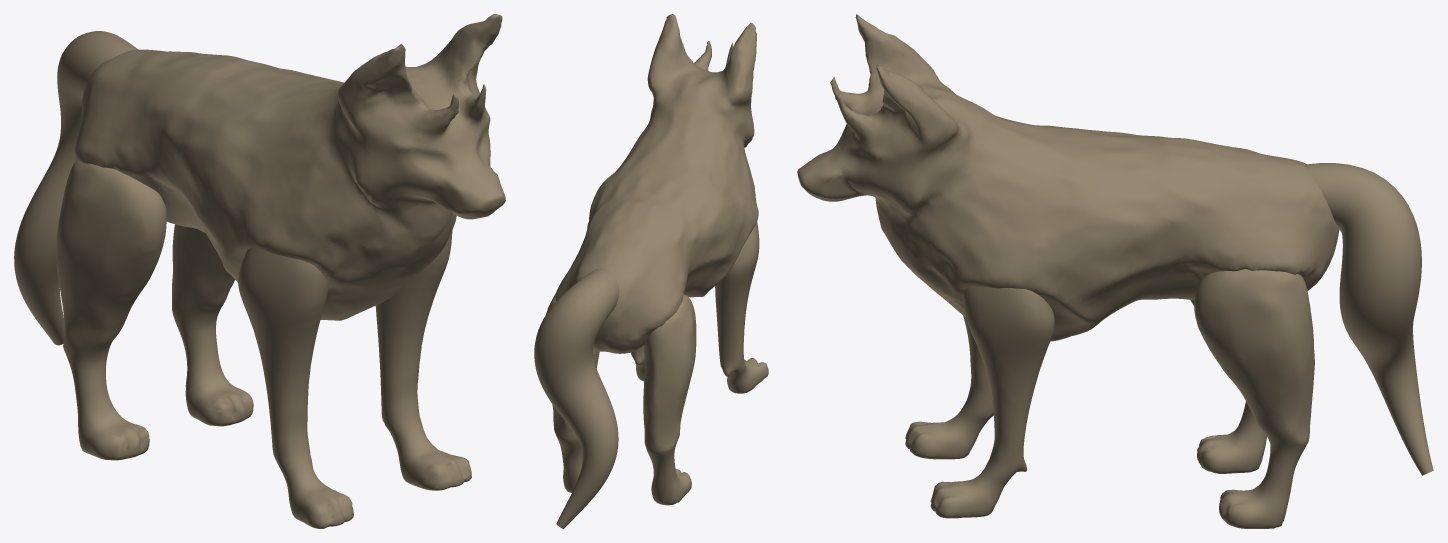
The model's file is wolf blockout.fbx.
The picture shows the model from 3 angles, left to right: view 1: azimuth 30°, elevation 25°; view 2: azimuth 150°, elevation 25°; view 3: azimuth 270°, elevation 25°; orthographic projection. The views are drawn at different scales.
Visible parts, largest first — view 1: wolf, back legs, front legs, tail; view 2: wolf, tail, back legs, front legs; view 3: wolf, back legs, tail, front legs.
Boxes of the visible parts, box(x1,y1,x2,y2) form: wolf: box(74, 14, 505, 320); back legs: box(56, 161, 253, 460); front legs: box(238, 231, 471, 528); tail: box(14, 31, 137, 345); wolf: box(555, 14, 758, 353); tail: box(534, 268, 619, 528); back legs: box(546, 293, 696, 505); front legs: box(631, 221, 768, 393); wolf: box(797, 14, 1339, 341); back legs: box(1190, 269, 1314, 528); tail: box(1304, 163, 1433, 475); front legs: box(905, 286, 1054, 518).
Size of the model in its own units: 163 by 337 by 393.
